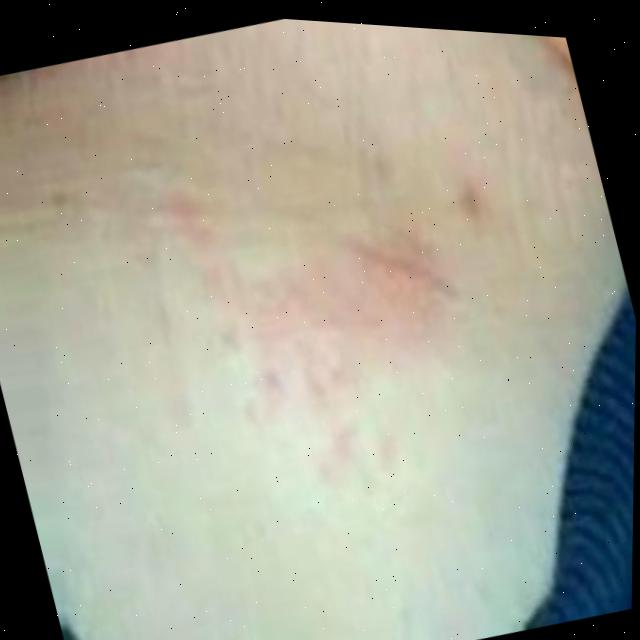Shingles: (234, 204, 481, 450)
